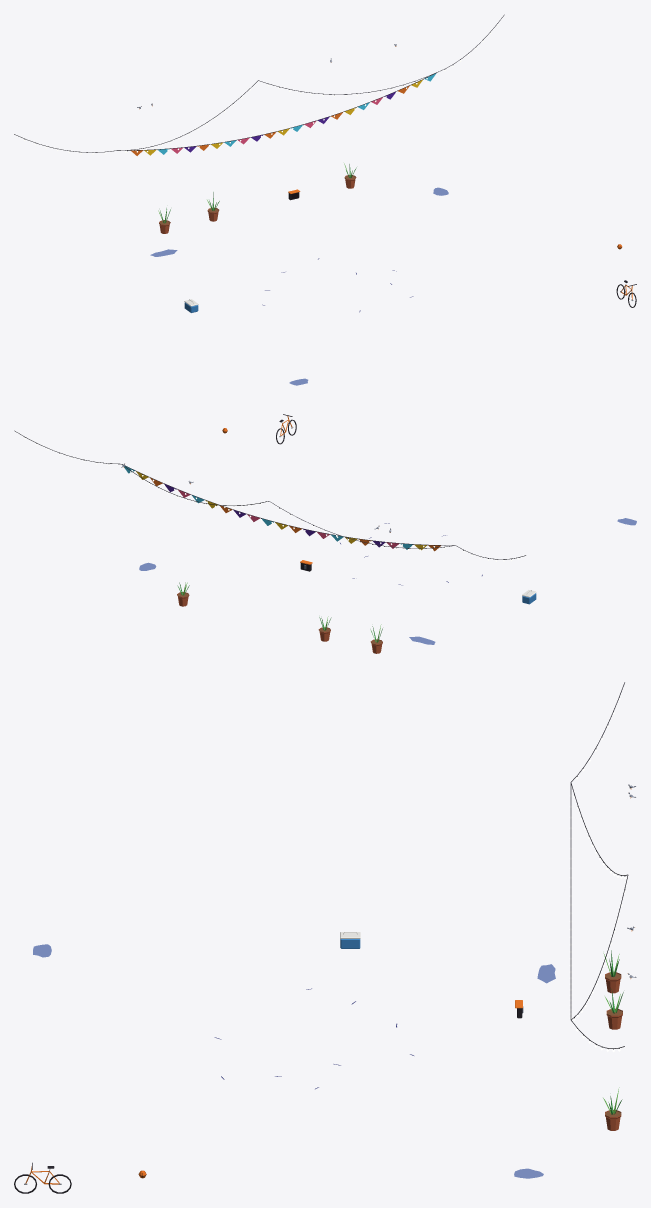
The model's file is sb-extras.glb.
3 views of the same model, one above another, from view 1: azimuth 30°, elevation 25°; view 2: azimuth 150°, elevation 25°; view 3: azimuth 270°, elevation 25° (orthographic). The views are drawn at different scales.
Visible parts, largest first — view 1: Lights, Plants; view 2: Lights, Plants, Decals; view 3: Plants, Lights, Decals.
Part boxes in pixels (x1,y1,x2,y2): Lights: (14,14,504,155); Plants: (158,163,356,233); Lights: (14,430,525,559); Plants: (177,582,382,653); Decals: (139,518,636,644); Plants: (603,950,623,1130); Lights: (570,682,628,1049); Decals: (33,944,555,1178).
Bounding box in the file's own units: 25.91 × 6.63 × 18.73.
